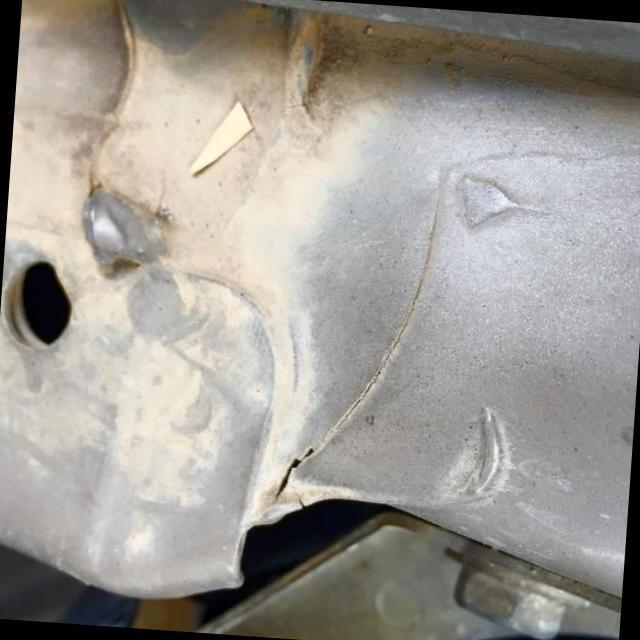defect: (271, 149, 447, 503), (293, 487, 307, 506)
